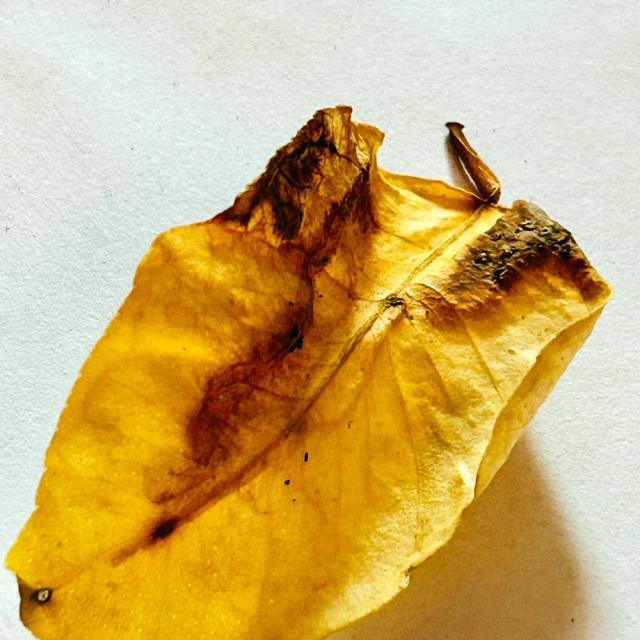DryLeaf_Lemon: (6, 106, 610, 639)
